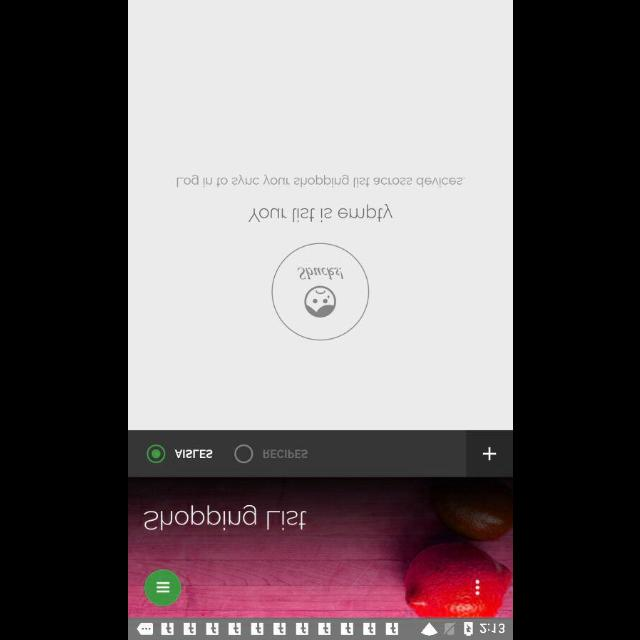checkbox: (233, 445, 253, 463), (146, 445, 164, 463)
icon: (144, 568, 182, 604), (482, 446, 496, 460), (474, 579, 480, 595)
image: (128, 478, 512, 616), (271, 242, 369, 341)
text: (142, 504, 306, 530), (176, 174, 464, 188), (248, 204, 392, 222), (262, 448, 308, 458), (174, 448, 212, 458)
uppertaskbar: (128, 617, 512, 639)
